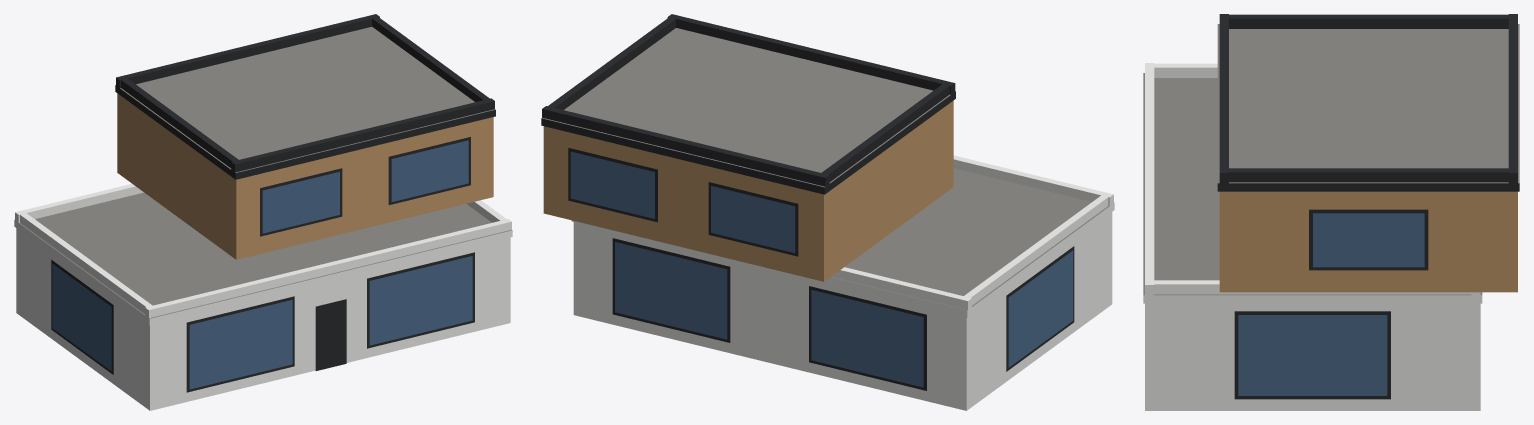
Rendered from maison_contemporaine.glb.
3 renders of one model, left to right at view 1: azimuth 30°, elevation 25°; view 2: azimuth 150°, elevation 25°; view 3: azimuth 270°, elevation 25°, orthographic. The views are drawn at different scales.
Parts seen in each view (by area): view 1: maison_contemporaine; view 2: maison_contemporaine; view 3: maison_contemporaine.
Part boxes in pixels (<box>): maison_contemporaine: <box>14,14,512,410</box>; maison_contemporaine: <box>541,14,1114,410</box>; maison_contemporaine: <box>1143,14,1519,410</box>.
Size of the model in its own units: 14.6 by 7.3 by 10.1.
Materials: 1 (1 with a texture image).
